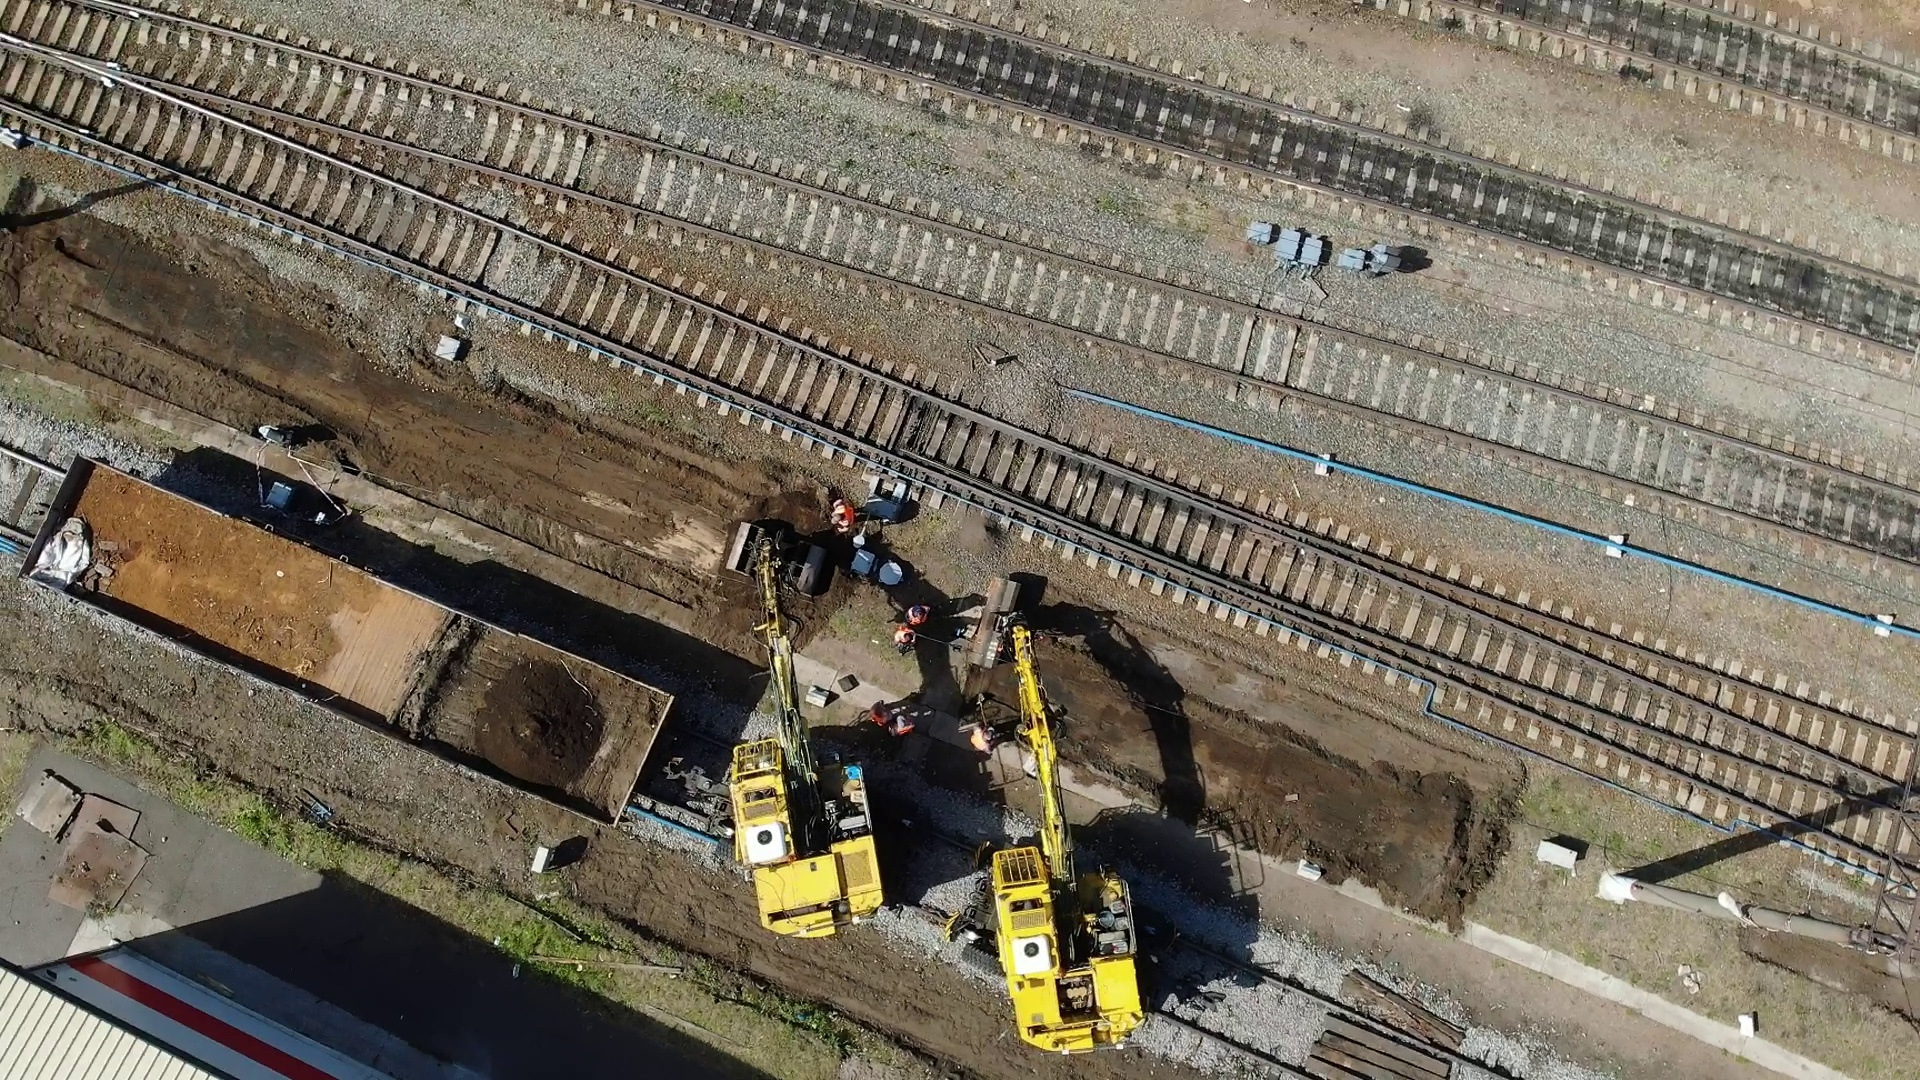kjtv: (987, 835, 1142, 1053), (732, 738, 888, 941)
